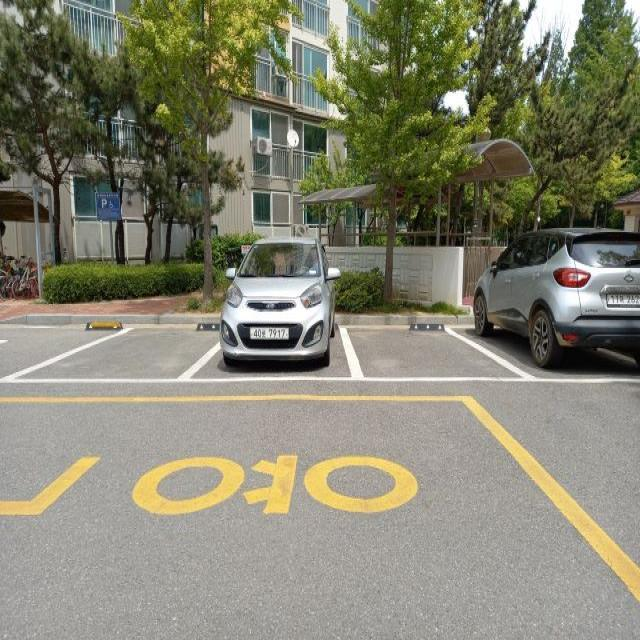empty: (3, 318, 236, 383), (341, 328, 539, 384)
occupied: (469, 225, 640, 374), (221, 233, 343, 369)
